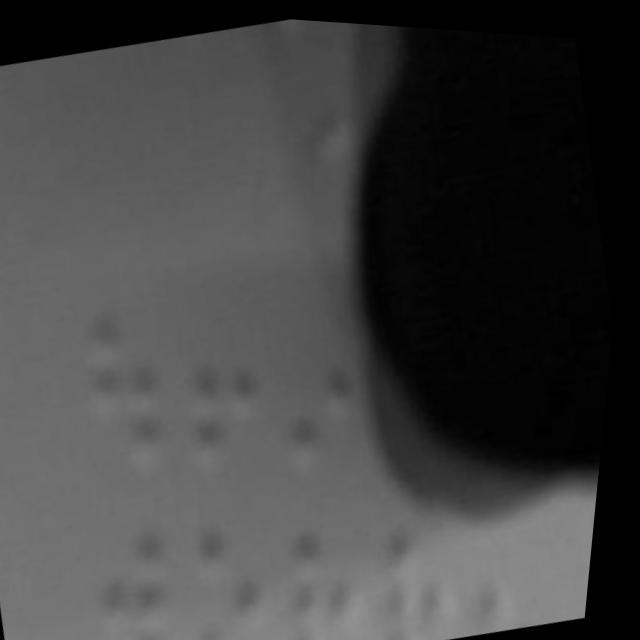braiile: (256, 283, 392, 472), (162, 283, 291, 474), (65, 296, 192, 489), (169, 502, 300, 640), (268, 508, 388, 640), (363, 511, 483, 640), (85, 518, 207, 640), (458, 512, 563, 632), (544, 491, 605, 615)
